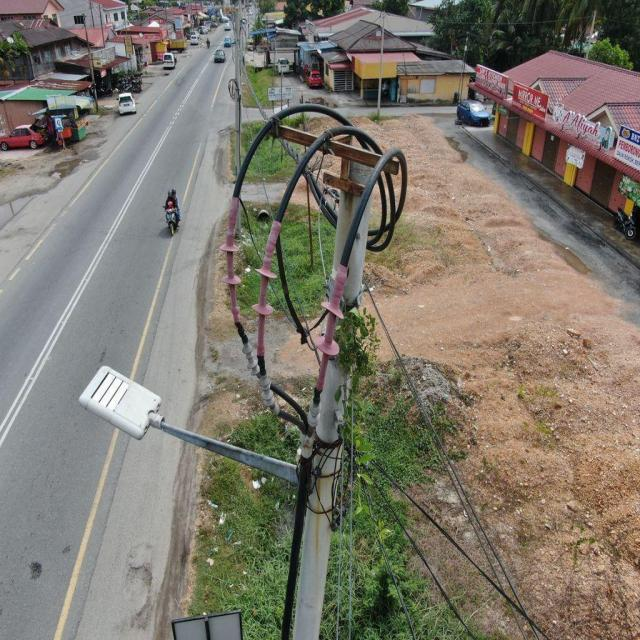critical vegetation: (328, 301, 380, 510)
